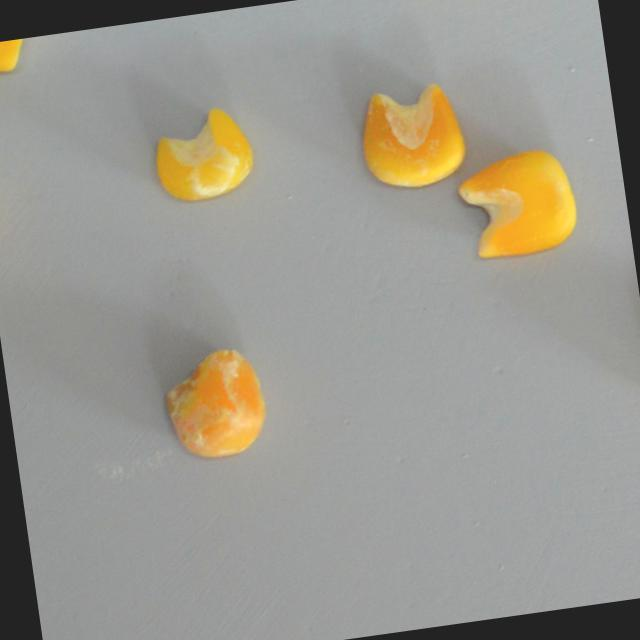no_canjicado: (454, 146, 582, 261), (0, 38, 32, 72)
pelicula: (161, 343, 273, 465), (357, 78, 470, 192), (146, 104, 261, 208)
